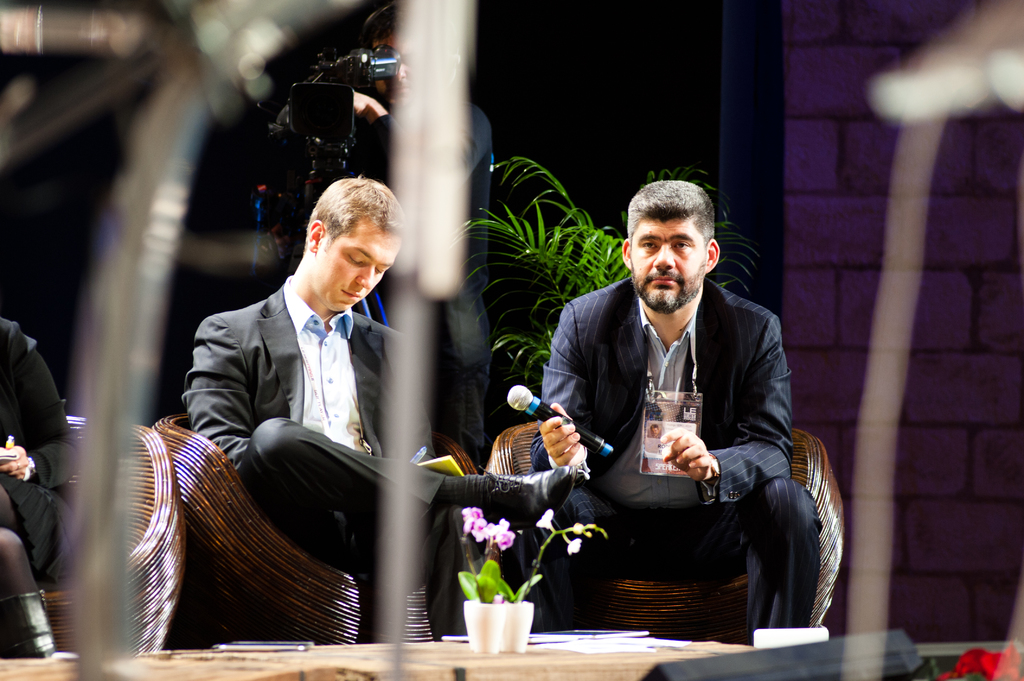Footwear: (483, 466, 576, 538), (0, 588, 61, 660)
